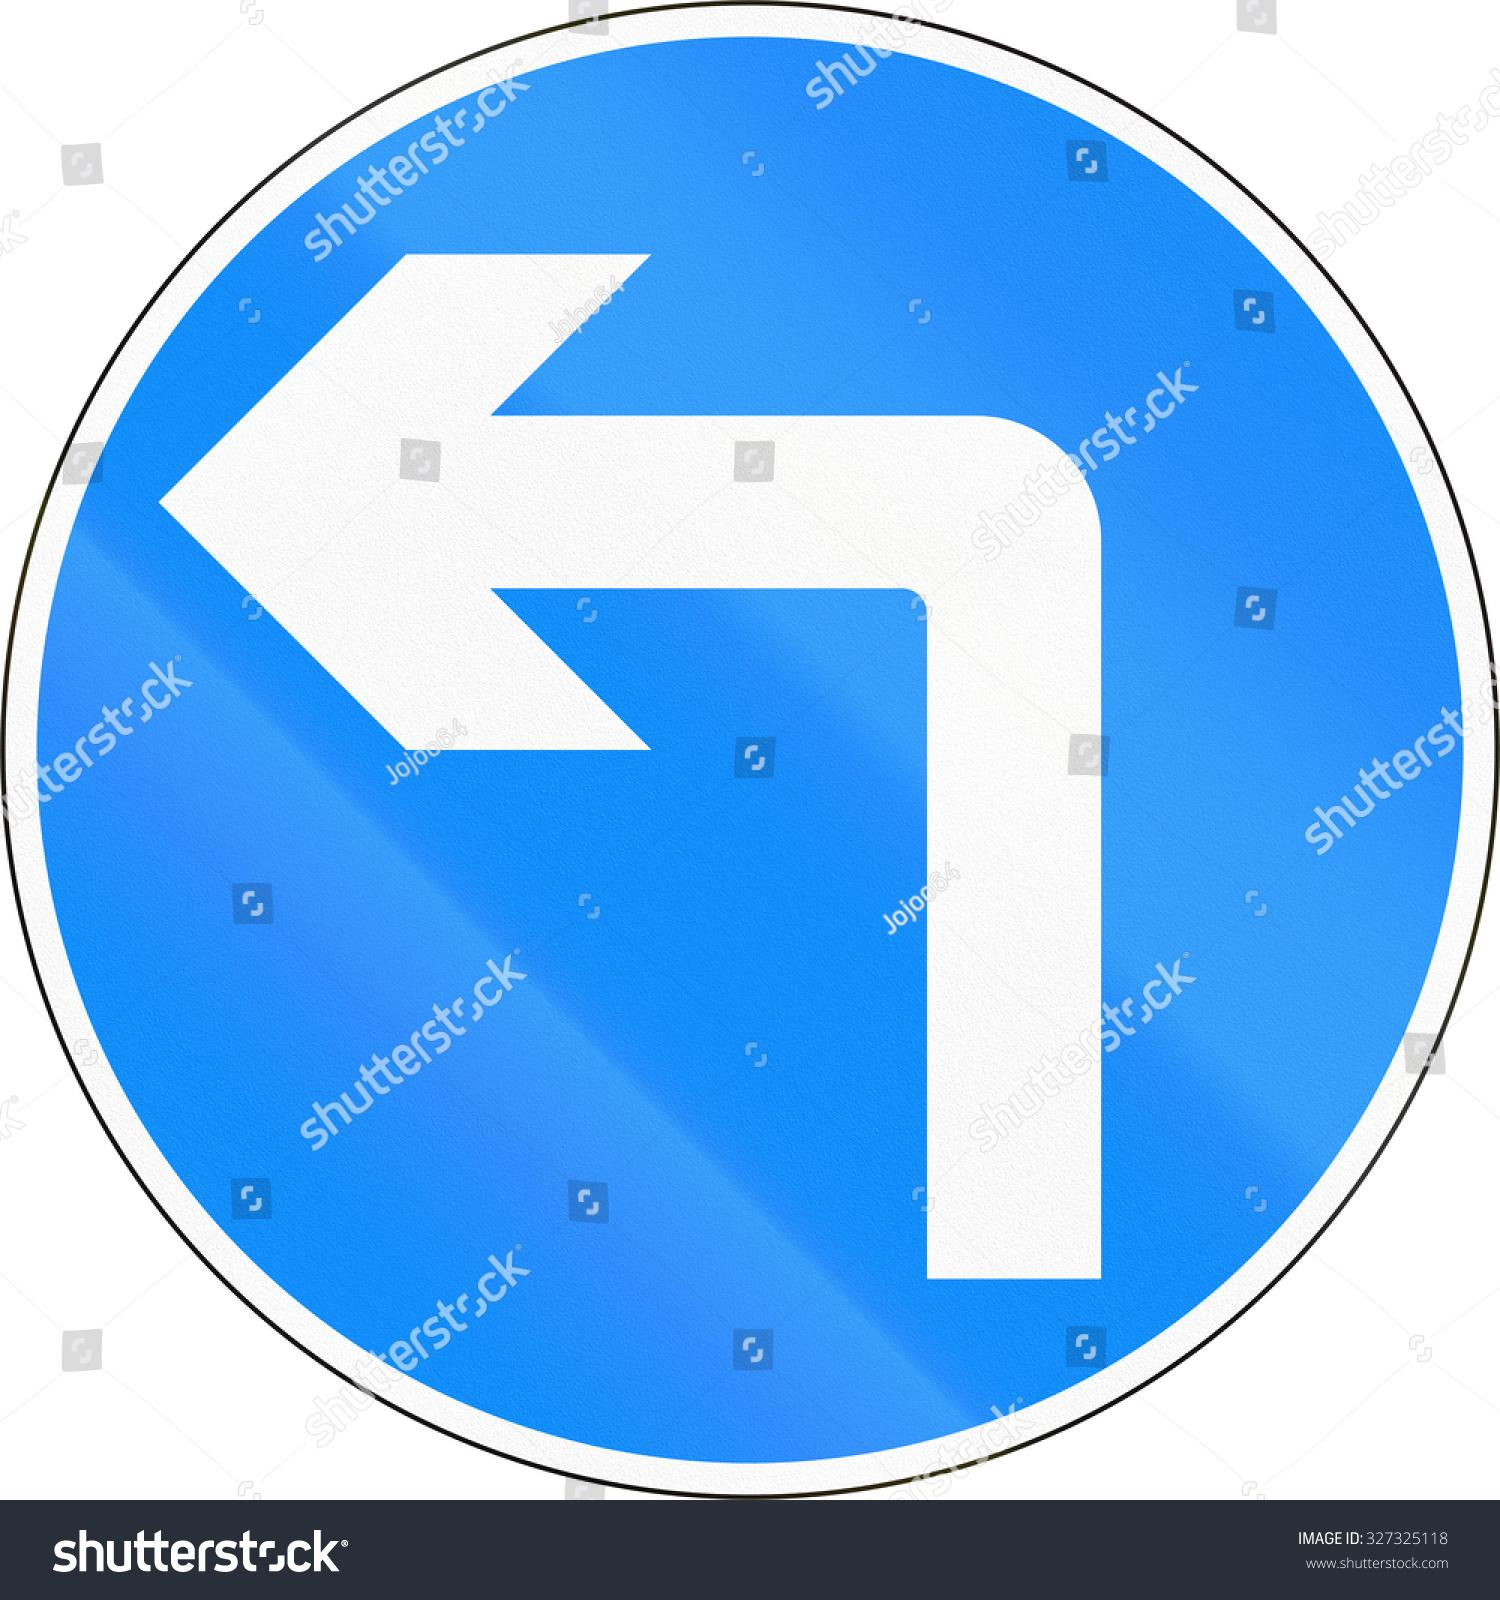Left hand curve: (78, 124, 1437, 1434)
